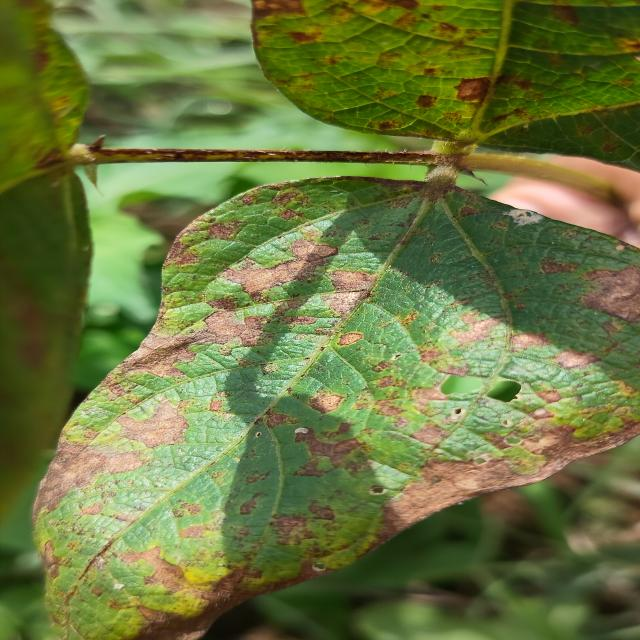Black gram_leaf spot: (37, 174, 639, 640), (256, 0, 640, 147)
